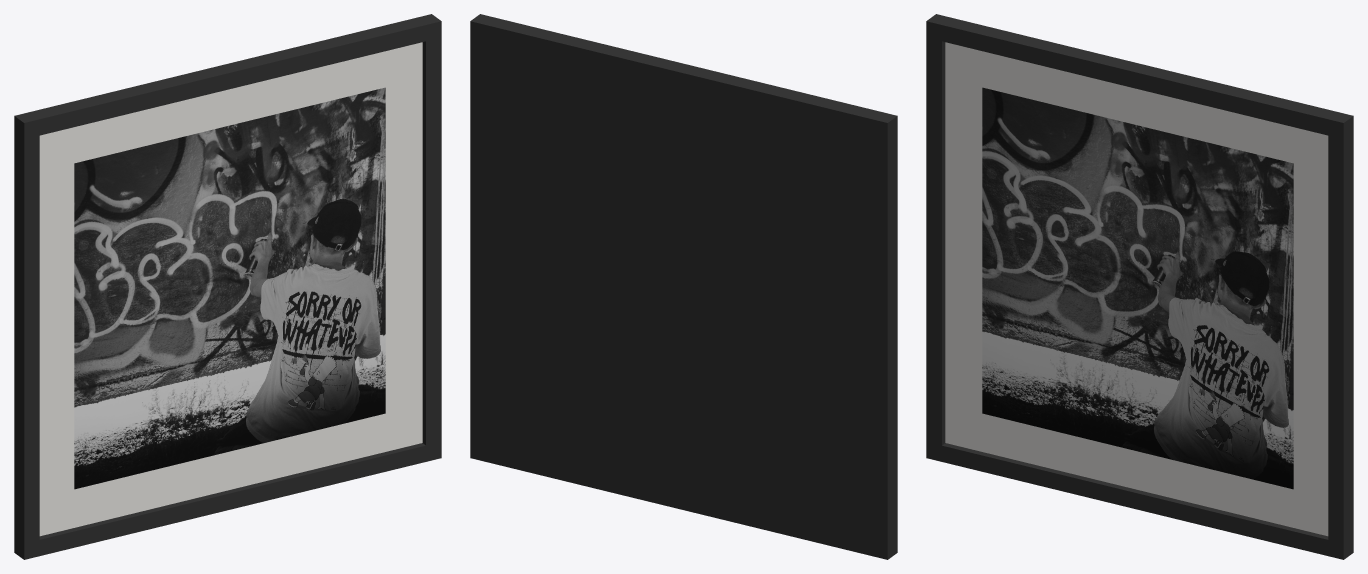
File: taggen-40.gltf
The picture shows the model from 3 angles, left to right: view 1: azimuth 30°, elevation 25°; view 2: azimuth 150°, elevation 25°; view 3: azimuth 330°, elevation 25°; orthographic projection.
Visible parts, largest first — view 1: tavla; view 2: tavla; view 3: tavla.
Boxes of the visible parts, x1,y1,x2,y2 form: tavla: [14, 14, 441, 559]; tavla: [470, 14, 897, 559]; tavla: [926, 14, 1353, 559].
Size of the model in its own units: 0.536 by 0.536 by 0.022.
Materials: 3 (1 with a texture image).
